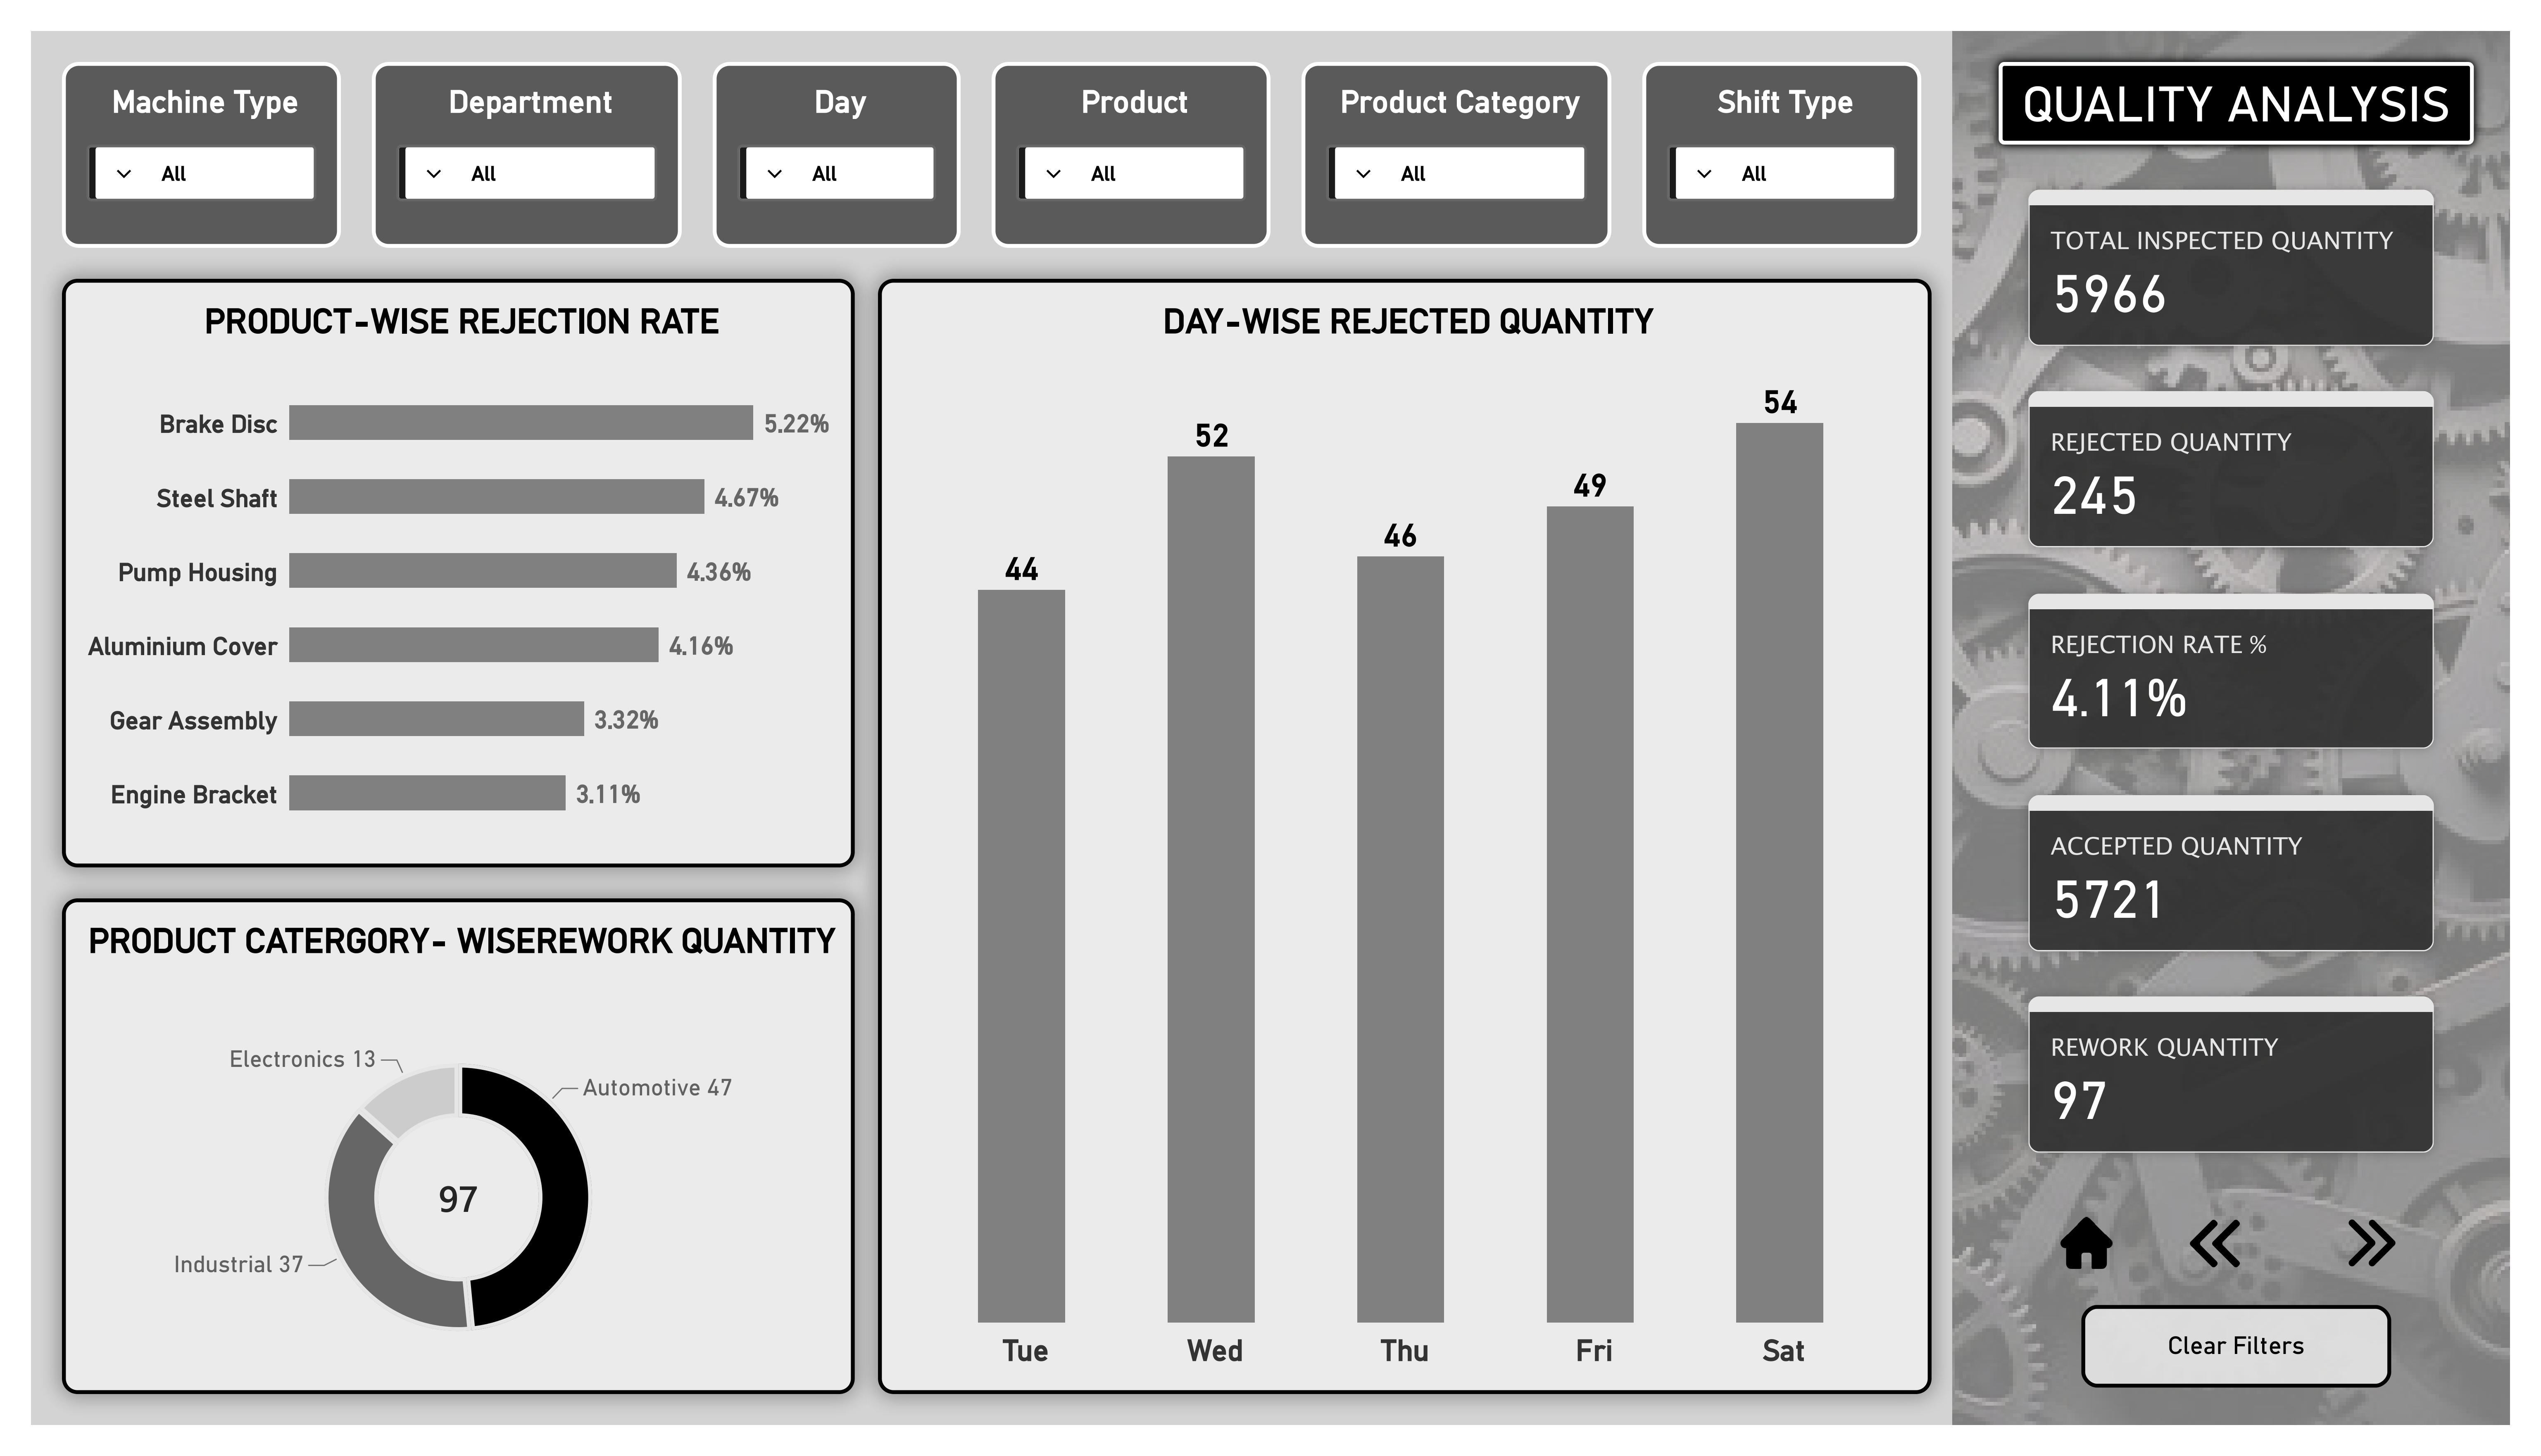

What the dashboard file says about the page in this screenshot:
{"tool":"powerbi","page":{"name":"Quality Analysis (Page 2)","canvas":[1920,1080],"ordinal":3},"visuals":[{"type":"group","id":"g1","title":"Group 1","box":[1488,0,432,1080],"z":0},{"type":"image","box":[1488,0,432,1080],"z":0,"group":"g1"},{"type":"group","id":"g2","title":"Group 2","box":[24,24,1440,144],"z":1000},{"type":"image","box":[1571.5,907,40,64],"z":1000,"group":"g3"},{"type":"group","id":"g3","title":"Group 2","box":[1571.5,907,272,48],"z":2000},{"type":"image","box":[1781.4,907,62.1,64],"z":3000,"group":"g5"},{"type":"actionButton","box":[1587.5,987,240,64],"z":3000},{"type":"clusteredBarChart","title":"PRODUCT-WISE REJECTION RATE","fields":{"Category":["DimProduct.ProductName"],"Y":["2 Quality Analysis.REJECTION RATE %"]},"box":[24,192,614,456],"z":4000},{"type":"image","box":[1667.5,915,46.6,48],"z":4000,"group":"g5"},{"type":"donutChart","title":"PRODUCT CATERGORY- WISEREWORK QUANTITY ","fields":{"Category":["DimProduct.ProductCategory"],"Y":["2 Quality Analysis.REWORK QUANTITY"]},"box":[24,672,614,384],"z":5000},{"type":"cardVisual","fields":{"Data":["Quality Analysis.TOTAL INSPECTED QUANTITY"]},"box":[1536,112,336,142.9],"z":6000,"group":"g4"},{"type":"clusteredColumnChart","title":"DAY-WISE REJECTED QUANTITY","fields":{"Category":["DimDate.Weekly Day "],"Y":["2 Quality Analysis.REJECTED QUANTITY"]},"box":[656,192,816,864],"z":6000},{"type":"shape","box":[1516,16,384,80],"z":7000},{"type":"listSlicer","fields":{"Values":["DimDepartment.DepartmentName"]},"box":[264,24,240,144],"z":7000,"group":"g2"},{"type":"cardVisual","fields":{"Data":["Quality Analysis.REJECTED QUANTITY"]},"box":[1536,268.3,336,142.9],"z":7000,"group":"g4"},{"type":"group","id":"g4","title":"Group 3","box":[1536,112,336,768],"z":8000},{"type":"cardVisual","fields":{"Data":["Quality Analysis.REWORK QUANTITY"]},"box":[1536,737.1,336,142.9],"z":8000,"group":"g4"},{"type":"cardVisual","fields":{"Data":["Quality Analysis.REJECTION RATE %"]},"box":[1536,424.6,336,142.9],"z":9000,"group":"g4"},{"type":"cardVisual","fields":{"Data":["Quality Analysis.ACCEPTED QUANTITY"]},"box":[1536,580.8,336,142.9],"z":10000,"group":"g4"},{"type":"listSlicer","fields":{"Values":["DimMachine.MachineName"]},"box":[24,24,216,144],"z":22000,"group":"g2"},{"type":"group","id":"g5","title":"Group 1","box":[1667.5,907,176,64],"z":23001,"group":"g3"},{"type":"listSlicer","fields":{"Values":["DimProduct.ProductCategory"]},"box":[984,24,240,144],"z":23500,"group":"g2"},{"type":"listSlicer","fields":{"Values":["DimDate.Date.Variation.Date Hierarchy.Day"]},"box":[528,24,192,144],"z":24000,"group":"g2"},{"type":"listSlicer","fields":{"Values":["DimShift.ShiftName"]},"box":[1248,24,216,144],"z":25000,"group":"g2"},{"type":"listSlicer","fields":{"Values":["DimProduct.ProductName"]},"box":[744,24,216,144],"z":25500,"group":"g2"}]}

Visuals, with their boxes on the page's 1920x1080 design canvas (x1, y1, x2, y2). These are canvas units, not pixel positions in the 2541x1456 screenshot, which may show the page scaled, cropped or inside an application window:
"Group 1" group: <box>1488,0,1920,1080</box>
image: <box>1488,0,1920,1080</box>
"Group 2" group: <box>24,24,1464,168</box>
image: <box>1572,907,1612,971</box>
"Group 2" group: <box>1572,907,1844,955</box>
image: <box>1781,907,1844,971</box>
actionButton: <box>1588,987,1828,1051</box>
"PRODUCT-WISE REJECTION RATE" clusteredBarChart: <box>24,192,638,648</box>
image: <box>1668,915,1714,963</box>
"PRODUCT CATERGORY- WISEREWORK QUANTITY " donutChart: <box>24,672,638,1056</box>
cardVisual - Quality Analysis.TOTAL INSPECTED QUANTITY: <box>1536,112,1872,255</box>
"DAY-WISE REJECTED QUANTITY" clusteredColumnChart: <box>656,192,1472,1056</box>
shape: <box>1516,16,1900,96</box>
listSlicer - DimDepartment.DepartmentName: <box>264,24,504,168</box>
cardVisual - Quality Analysis.REJECTED QUANTITY: <box>1536,268,1872,411</box>
"Group 3" group: <box>1536,112,1872,880</box>
cardVisual - Quality Analysis.REWORK QUANTITY: <box>1536,737,1872,880</box>
cardVisual - Quality Analysis.REJECTION RATE %: <box>1536,425,1872,568</box>
cardVisual - Quality Analysis.ACCEPTED QUANTITY: <box>1536,581,1872,724</box>
listSlicer - DimMachine.MachineName: <box>24,24,240,168</box>
"Group 1" group: <box>1668,907,1844,971</box>
listSlicer - DimProduct.ProductCategory: <box>984,24,1224,168</box>
listSlicer - DimDate.Date.Variation.Date Hierarchy.Day: <box>528,24,720,168</box>
listSlicer - DimShift.ShiftName: <box>1248,24,1464,168</box>
listSlicer - DimProduct.ProductName: <box>744,24,960,168</box>
